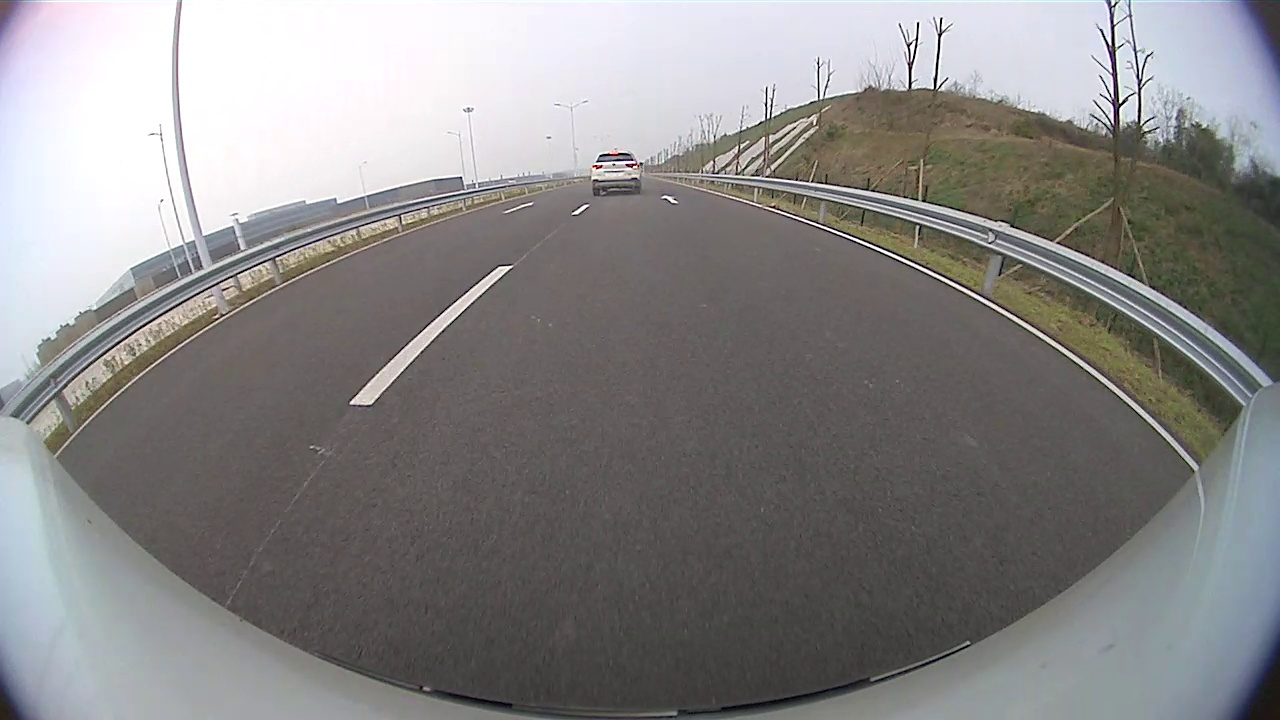car: (590, 147, 645, 196)
